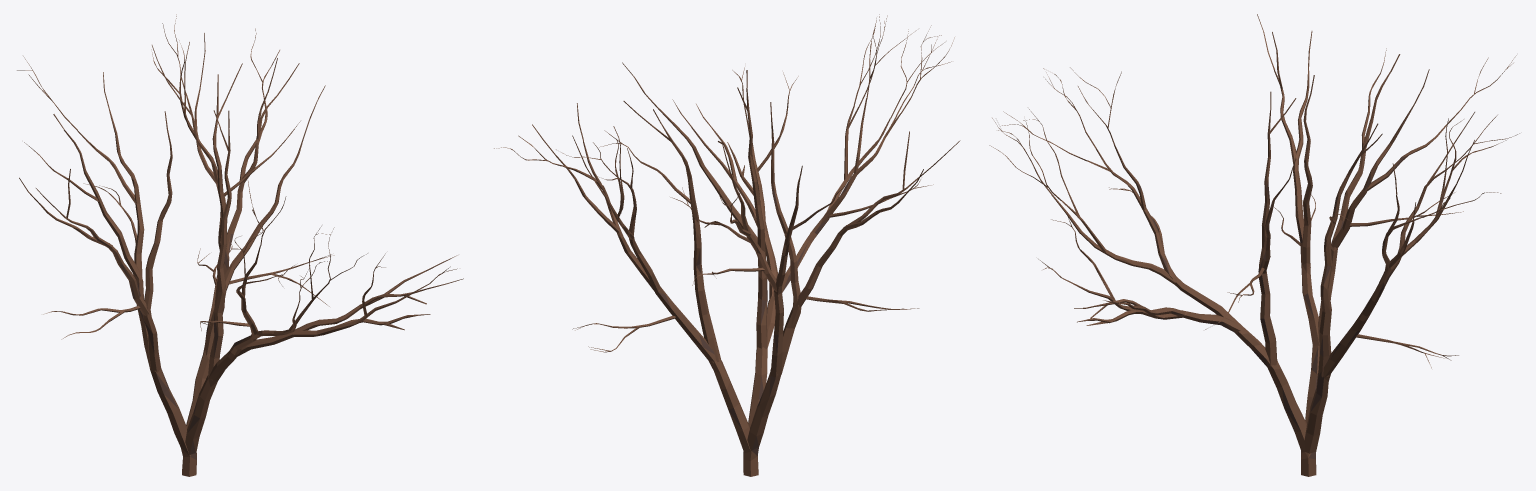
File: mesh_tree_oak_03_dead.fbx
3 views of the same model, side by side, from view 1: azimuth 30°, elevation 25°; view 2: azimuth 150°, elevation 25°; view 3: azimuth 270°, elevation 25° (orthographic). The views are drawn at different scales.
Visible parts, largest first — view 1: mesh_tree_oak_03_dead_LOD0; view 2: mesh_tree_oak_03_dead_LOD0; view 3: mesh_tree_oak_03_dead_LOD0.
Part boxes in pixels (x1,y1,x2,y2): mesh_tree_oak_03_dead_LOD0: (17,14,463,476); mesh_tree_oak_03_dead_LOD0: (494,14,960,476); mesh_tree_oak_03_dead_LOD0: (989,14,1519,476).
Size of what is drawn, in the model's own units: 7.5 by 7.55 by 9.28.
